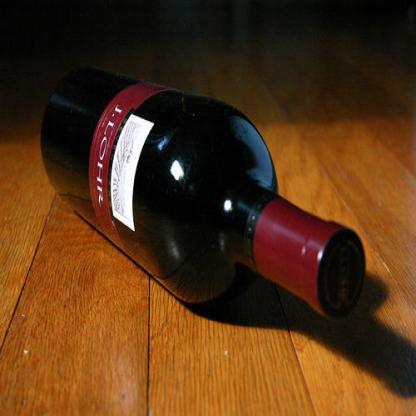bottle: (38, 62, 366, 322)
